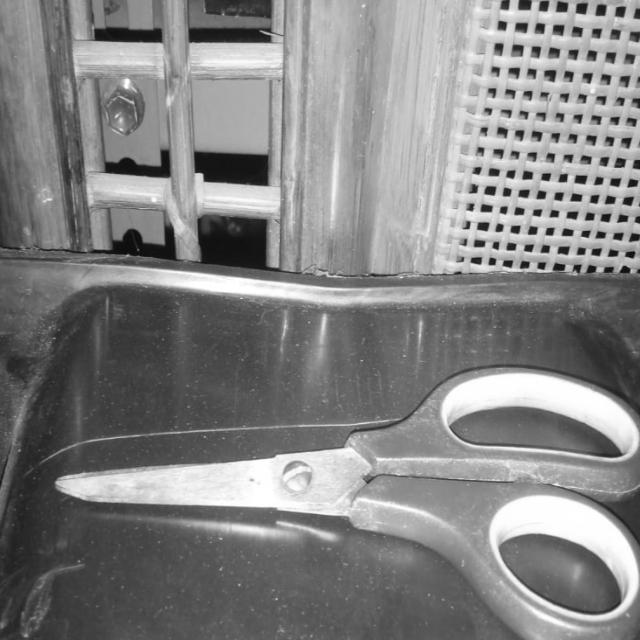tesoura: (54, 368, 639, 639)
